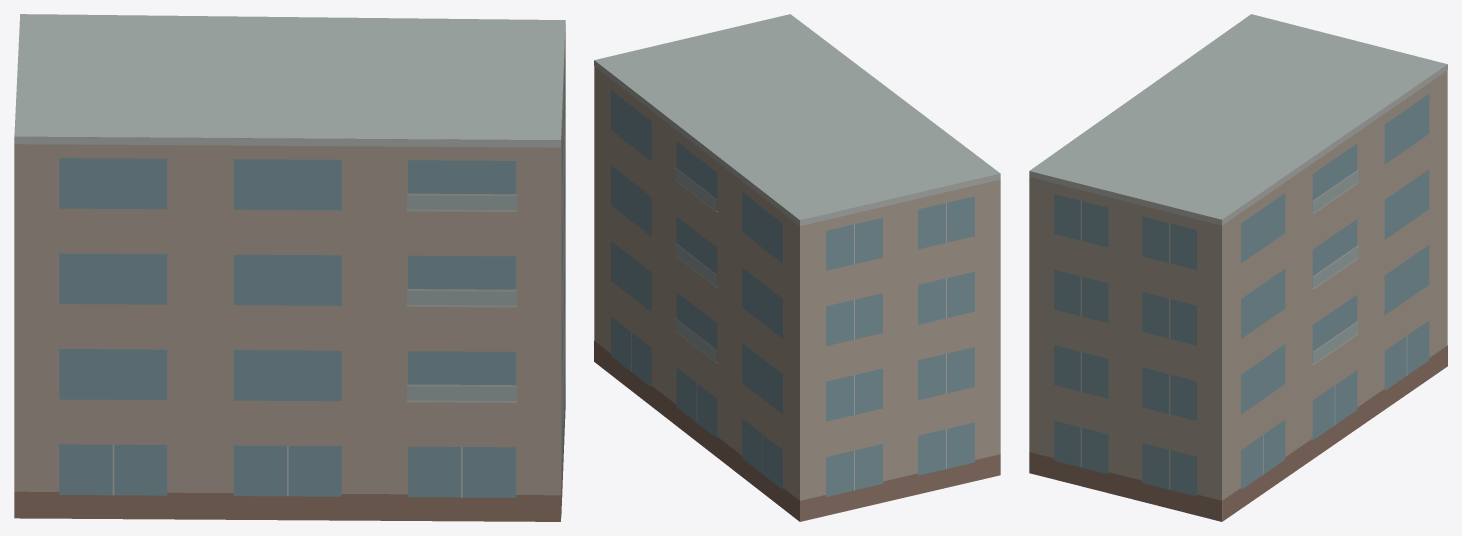
File: survey-upis-32803325.glb
3 renders of one model, left to right at view 1: azimuth 30°, elevation 25°; view 2: azimuth 150°, elevation 25°; view 3: azimuth 270°, elevation 25°, orthographic. The views are drawn at different scales.
Parts seen in each view (by area): view 1: survey-upis-32803325.tmp; view 2: survey-upis-32803325.tmp; view 3: survey-upis-32803325.tmp.
Part boxes in pixels (bbox=[...]): survey-upis-32803325.tmp: bbox=[14, 14, 565, 521]; survey-upis-32803325.tmp: bbox=[594, 14, 1000, 521]; survey-upis-32803325.tmp: bbox=[1029, 14, 1447, 521].
Size of the model in its own units: 18.12 by 12.4 by 15.58.
